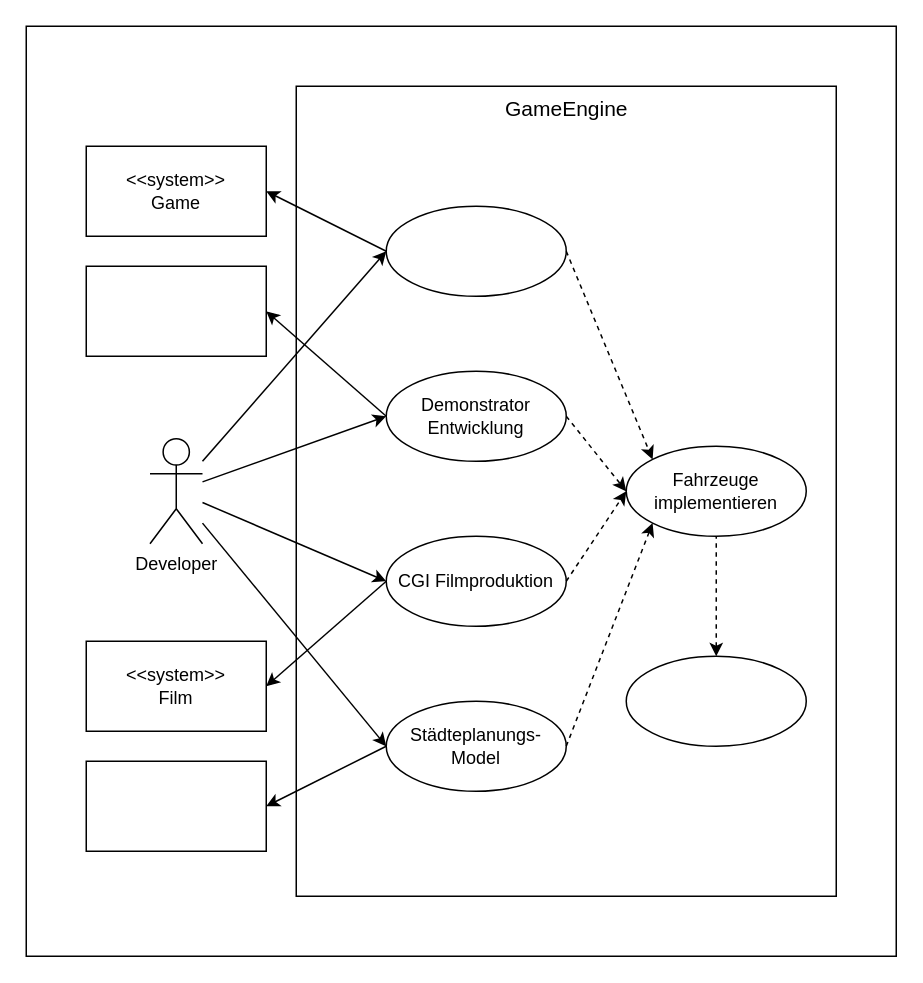
Some shapes in this 923 by 983 pixel diagram are drawn without their labels. Here are the shapes that lost their labels. From the top down, the centre of each, then its label:
At [475,250]: "Spiel Entwicklung".
At [175,310]: "<<system>> Demonstrator".
At [715,700]: "Autonomes Fahren".
At [175,805]: "<<system>> Stadtplanung".
